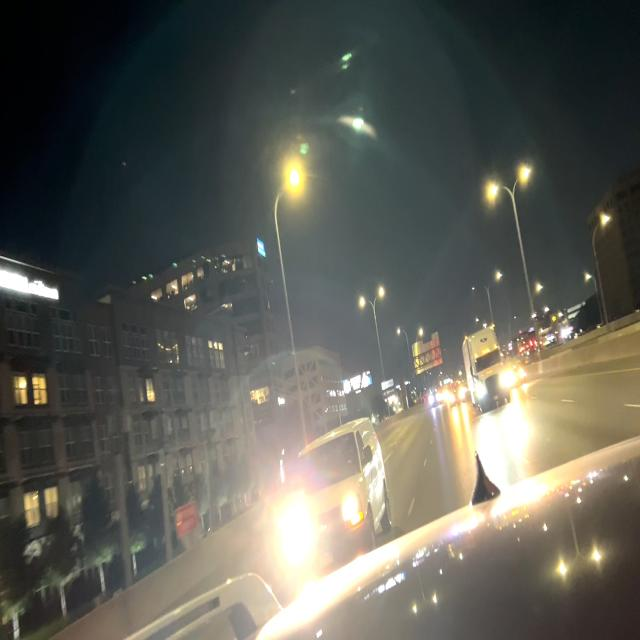back-of-sign: (413, 330, 444, 378)
